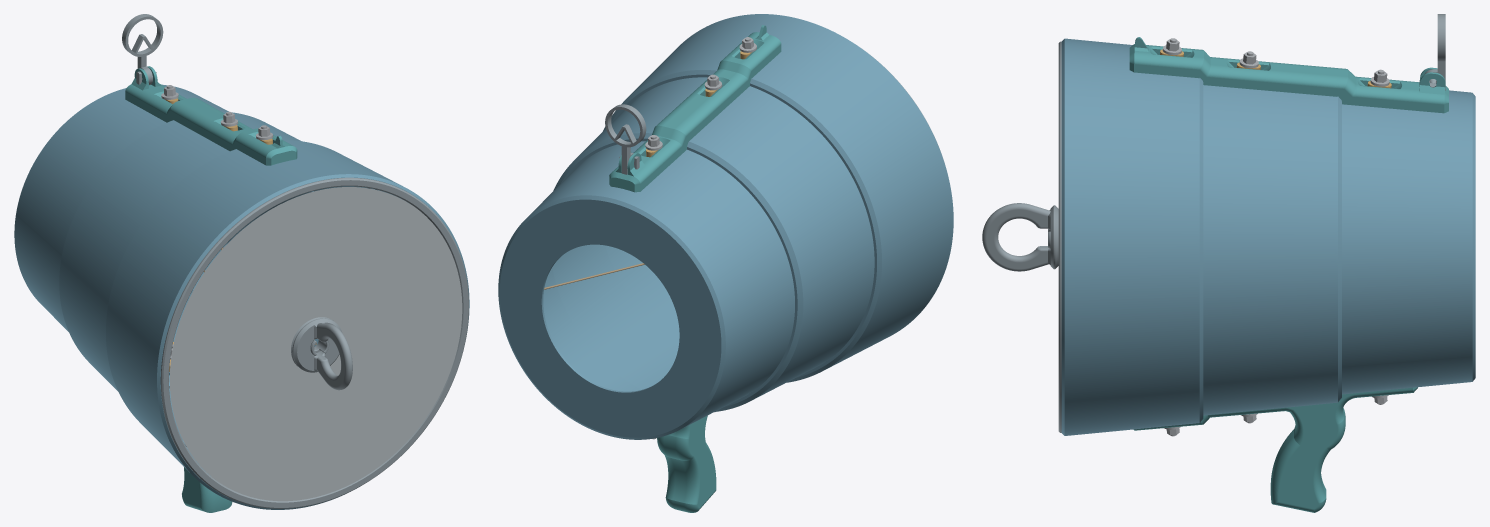
Rendered from recommended-rest.glb.
The picture shows the model from 3 angles, left to right: view 1: azimuth 30°, elevation 25°; view 2: azimuth 150°, elevation 25°; view 3: azimuth 270°, elevation 25°; orthographic projection. The views are drawn at different scales.
Parts seen in each view (by area): view 1: film-study, reinforced-7, reinforced-8, reinforced-6, stock-10, stock-3, stock-5, stock-4, stock-2; view 2: reinforced-6, reinforced-8, reinforced-7, stock-3, stock-4, stock-2; view 3: reinforced-7, reinforced-8, reinforced-6, stock-3, stock-4, stock-5, stock-10, stock-2.
Part boxes in pixels (x1,y1,x2,y2): film-study: [169, 187, 462, 501]; reinforced-7: [106, 140, 469, 509]; reinforced-8: [59, 111, 374, 446]; reinforced-6: [14, 84, 313, 388]; stock-10: [160, 177, 468, 508]; stock-3: [125, 66, 297, 165]; stock-5: [292, 318, 352, 390]; stock-4: [182, 467, 232, 512]; stock-2: [122, 14, 163, 84]; reinforced-6: [498, 141, 794, 439]; reinforced-8: [552, 77, 874, 411]; reinforced-7: [603, 14, 953, 382]; stock-3: [609, 25, 781, 192]; stock-4: [657, 415, 716, 512]; stock-2: [605, 104, 646, 174]; reinforced-7: [1061, 38, 1203, 435]; reinforced-8: [1203, 85, 1341, 415]; reinforced-6: [1342, 90, 1475, 394]; stock-3: [1129, 37, 1448, 113]; stock-4: [1133, 387, 1417, 512]; stock-5: [982, 203, 1058, 271]; stock-10: [1058, 41, 1061, 432]; stock-2: [1424, 14, 1445, 90].
Bounding box in the file's own units: 0.2496 × 0.341 × 0.3098.
